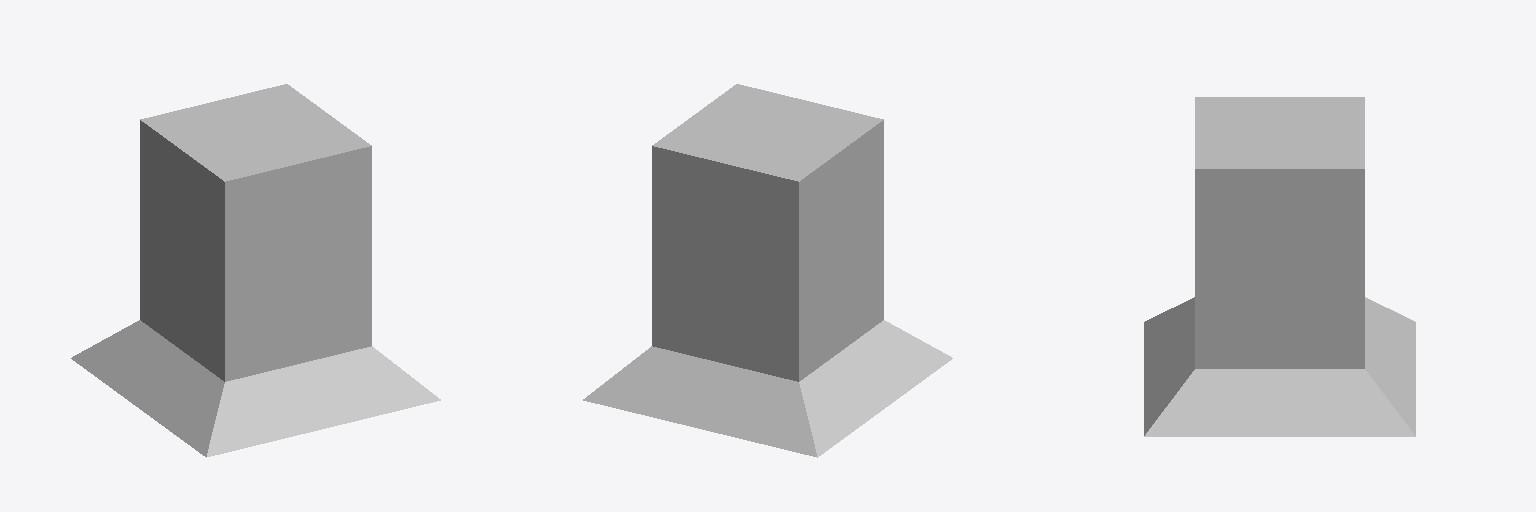
Rendered from fluidPump.obj.
3 views of the same model, side by side, from view 1: azimuth 30°, elevation 25°; view 2: azimuth 150°, elevation 25°; view 3: azimuth 270°, elevation 25° (orthographic).
Parts seen in each view (by area): view 1: cube; view 2: cube; view 3: cube.
Boxes of the visible parts, x1=… form: cube: x1=71, y1=84, x2=440, y2=457; cube: x1=583, y1=84, x2=952, y2=457; cube: x1=1144, y1=97, x2=1415, y2=436.
Bounding box in the file's own units: 1 × 1 × 1.